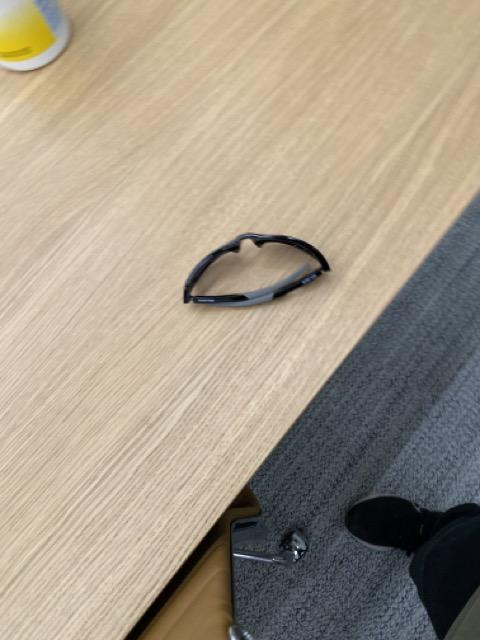Sunglasses: (182, 231, 331, 309)
